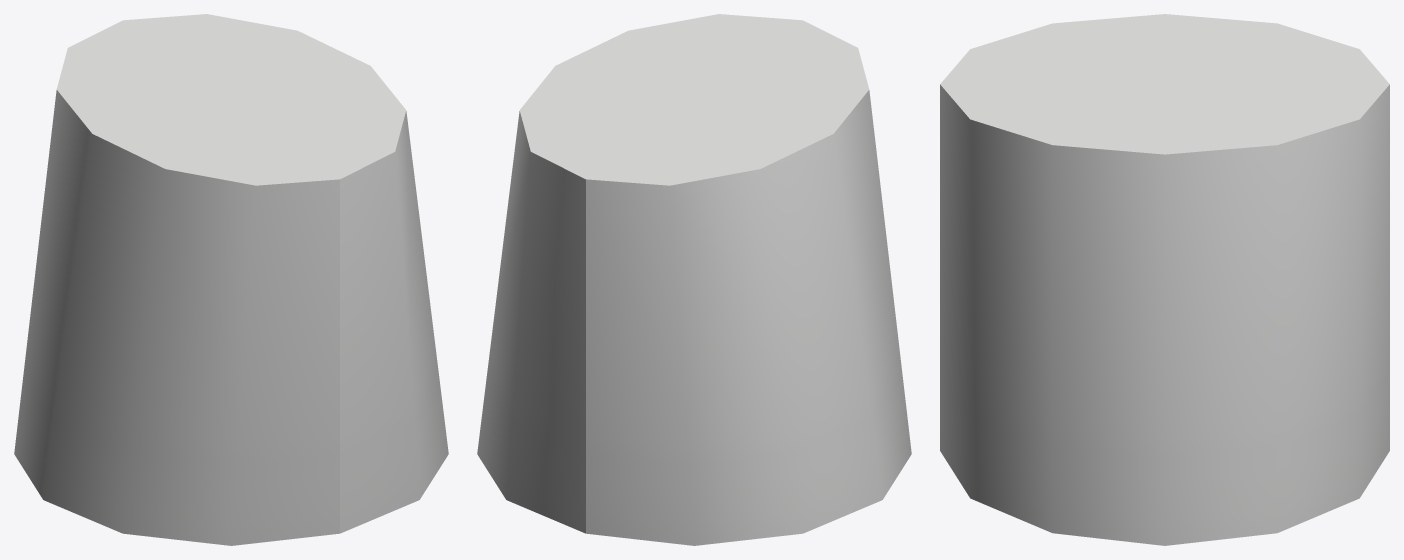
File: Head_Prop_Cooking_Toque_03.fbx
3 renders of one model, left to right at view 1: azimuth 30°, elevation 25°; view 2: azimuth 150°, elevation 25°; view 3: azimuth 270°, elevation 25°, orthographic. The views are drawn at different scales.
Visible parts, largest first — view 1: Head_Prop_Cooking_Toque_03; view 2: Head_Prop_Cooking_Toque_03; view 3: Head_Prop_Cooking_Toque_03.
Part boxes in pixels (x1,y1,x2,y2): Head_Prop_Cooking_Toque_03: (14,14,448,545); Head_Prop_Cooking_Toque_03: (477,14,911,545); Head_Prop_Cooking_Toque_03: (940,14,1389,545).
Bounding box in the file's own units: 100 × 89.95 × 100.
